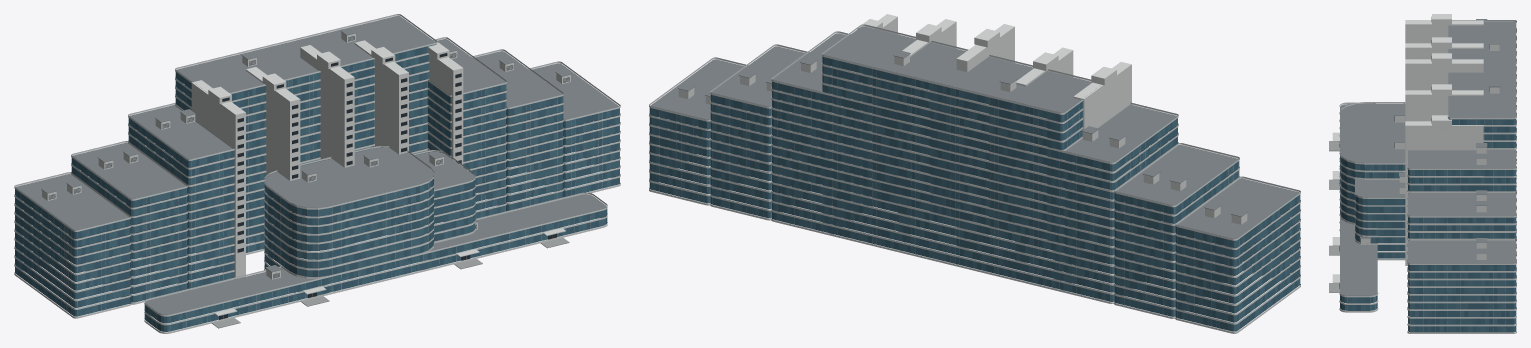
The model's file is watergreen-r1-draco.glb.
The picture shows the model from 3 angles, left to right: view 1: azimuth 30°, elevation 25°; view 2: azimuth 150°, elevation 25°; view 3: azimuth 270°, elevation 25°; orthographic projection. The views are drawn at different scales.
Parts seen in each view (by area): view 1: Watergreen stone, Watergreen roof, Watergreen glass0, Watergreen glass3, Watergreen glass2, Watergreen glass1, Watergreen frame, Watergreen recess, Watergreen paving; view 2: Watergreen stone, Watergreen roof, Watergreen glass0, Watergreen glass2, Watergreen glass3, Watergreen glass1, Watergreen frame; view 3: Watergreen roof, Watergreen stone, Watergreen glass1, Watergreen glass2, Watergreen glass0, Watergreen glass3, Watergreen frame, Watergreen paving.
Part boxes in pixels (x1,y1,x2,y2): Watergreen stone: [14, 14, 620, 333]; Watergreen roof: [15, 15, 619, 314]; Watergreen glass0: [15, 44, 619, 331]; Watergreen glass3: [15, 47, 619, 331]; Watergreen glass2: [15, 44, 619, 331]; Watergreen glass1: [15, 44, 619, 331]; Watergreen frame: [15, 14, 619, 331]; Watergreen recess: [48, 36, 569, 319]; Watergreen paving: [212, 238, 569, 328]; Watergreen stone: [649, 14, 1300, 333]; Watergreen roof: [650, 26, 1299, 238]; Watergreen glass0: [649, 57, 1299, 331]; Watergreen glass2: [649, 59, 1300, 331]; Watergreen glass3: [649, 58, 1300, 330]; Watergreen glass1: [649, 60, 1300, 331]; Watergreen frame: [651, 24, 1299, 325]; Watergreen roof: [1340, 19, 1516, 295]; Watergreen stone: [1332, 14, 1516, 333]; Watergreen glass1: [1340, 119, 1516, 332]; Watergreen glass2: [1340, 119, 1516, 332]; Watergreen glass0: [1340, 119, 1516, 332]; Watergreen glass3: [1340, 119, 1516, 332]; Watergreen frame: [1339, 20, 1515, 331]; Watergreen paving: [1329, 141, 1339, 292].
Bounding box in the file's own units: 221 × 70.4 × 74.51.
